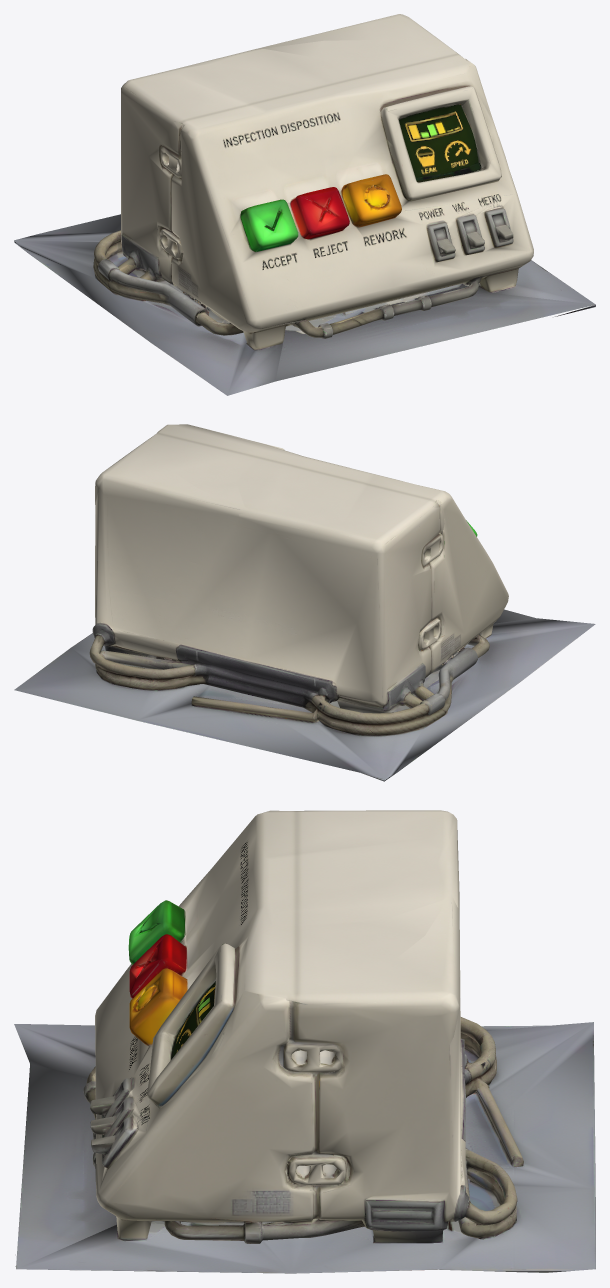
Rendered from Inspection.glb.
3 renders of one model, top to bottom at view 1: azimuth 30°, elevation 25°; view 2: azimuth 150°, elevation 25°; view 3: azimuth 270°, elevation 25°, orthographic. The views are drawn at different scales.
Parts seen in each view (by area): view 1: Mesh_0; view 2: Mesh_0; view 3: Mesh_0.
Part boxes in pixels (x1,y1,x2,y2): Mesh_0: (14, 14, 595, 395); Mesh_0: (14, 424, 595, 781); Mesh_0: (14, 810, 595, 1273).
Bounding box in the file's own units: 1.9 × 0.92 × 1.89.
Materials: 1 (1 with a texture image).
